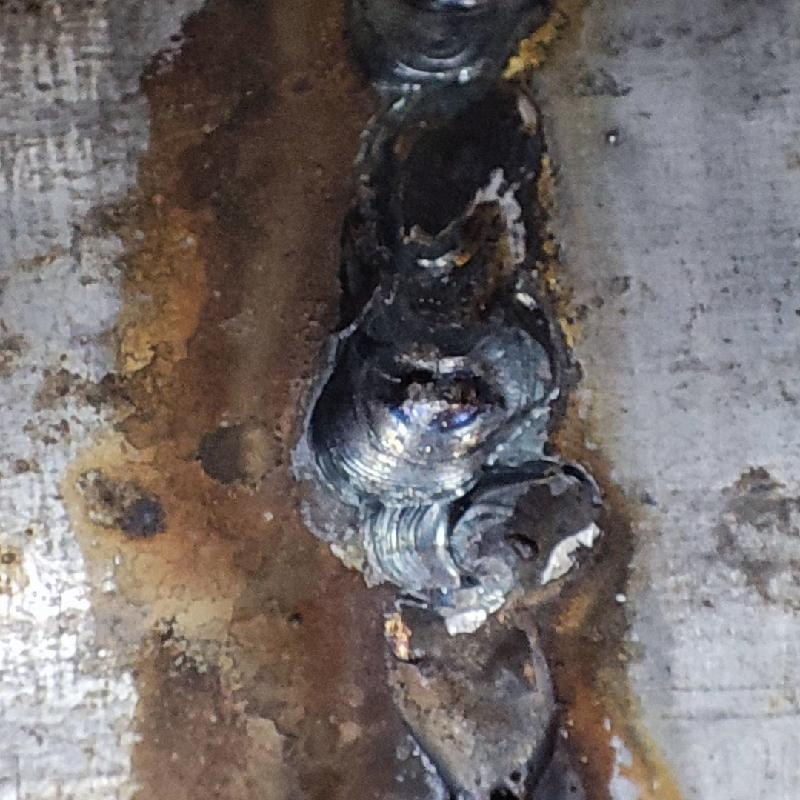Not_fully_soldered: (373, 507, 562, 796)
wrong_size: (317, 2, 550, 499)
